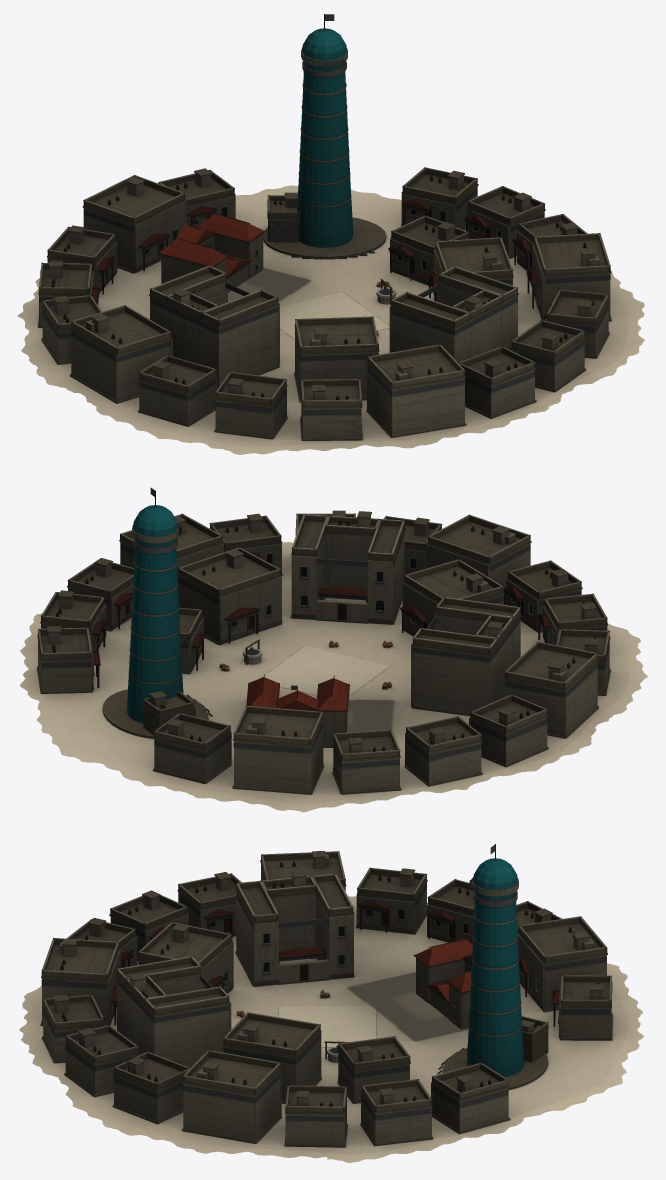
Rendered from gunpowder-town-big-a-steppe.glb.
The picture shows the model from 3 angles, top to bottom: view 1: azimuth 30°, elevation 25°; view 2: azimuth 150°, elevation 25°; view 3: azimuth 270°, elevation 25°; orthographic projection.
Parts seen in each view (by area): view 1: LOD0; view 2: LOD0; view 3: LOD0.
Boxes of the visible parts, bbox=[...] form: LOD0: bbox=[17, 14, 644, 454]; LOD0: bbox=[20, 487, 647, 812]; LOD0: bbox=[19, 844, 643, 1162].
Size of what is drawn, in the model's own units: 7.96 by 3.08 by 7.89.
Materials: 3 (3 with a texture image).
